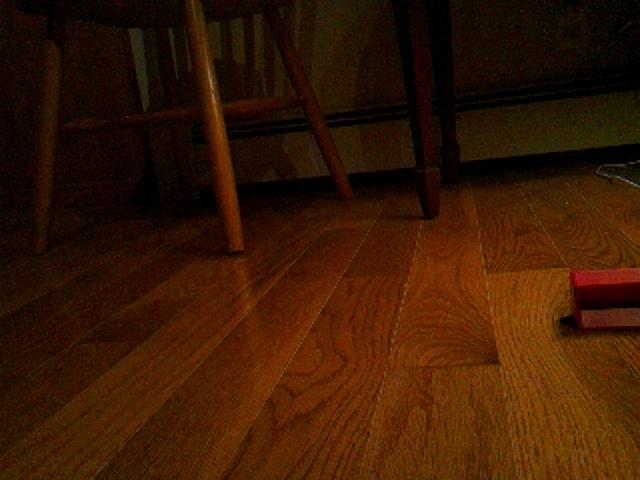red: (568, 266, 640, 331)
